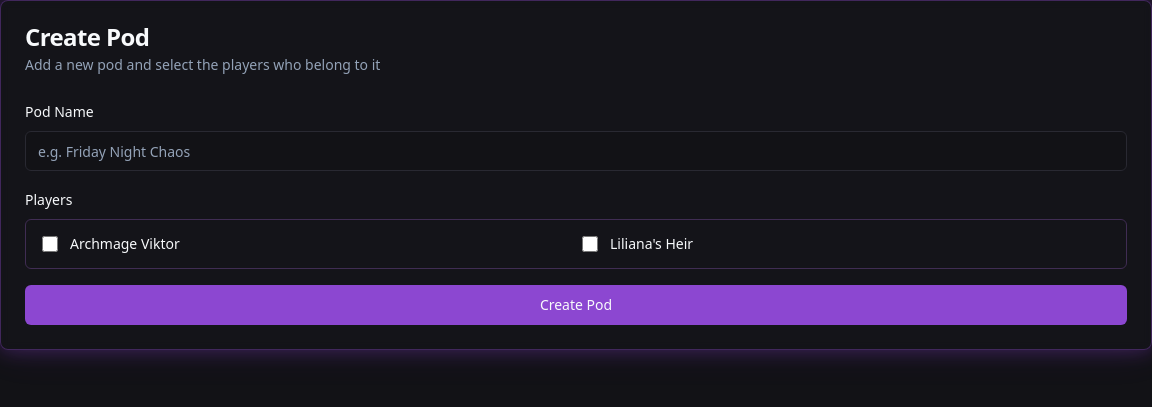
Test: PodManagementForm › requires players, creates the pod with selected memberships, and resets
Type "  Tuesday Commander  " into the field labelled "Pod Name" at (576, 151), box [25,131,1127,171]
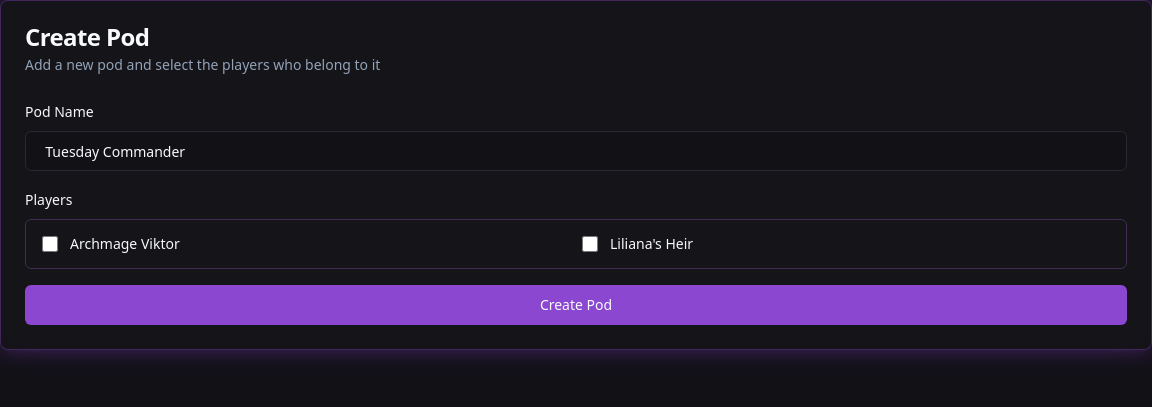
Click the button "Create Pod" at (576, 305), box [25,285,1127,325]
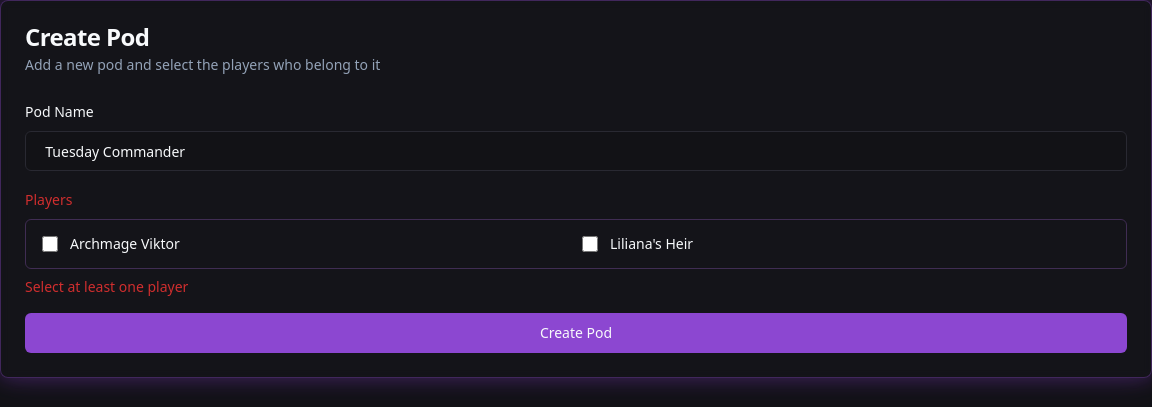
Now the text "Select at least one player" is shown, box [25,277,188,296]
Click the checkbox labelled "Archmage Viktor" at (50, 244), box [42,236,58,252]
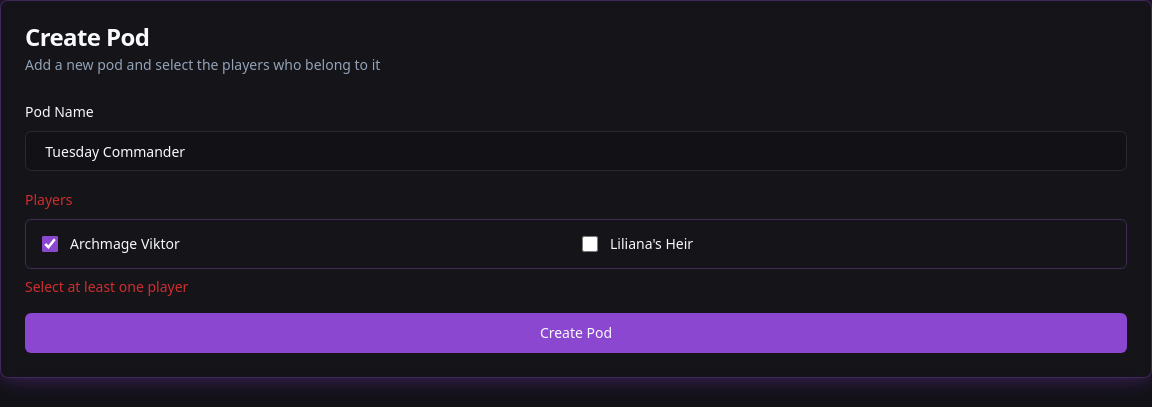
Click the checkbox labelled "Liliana's Heir" at (590, 244), box [582,236,598,252]
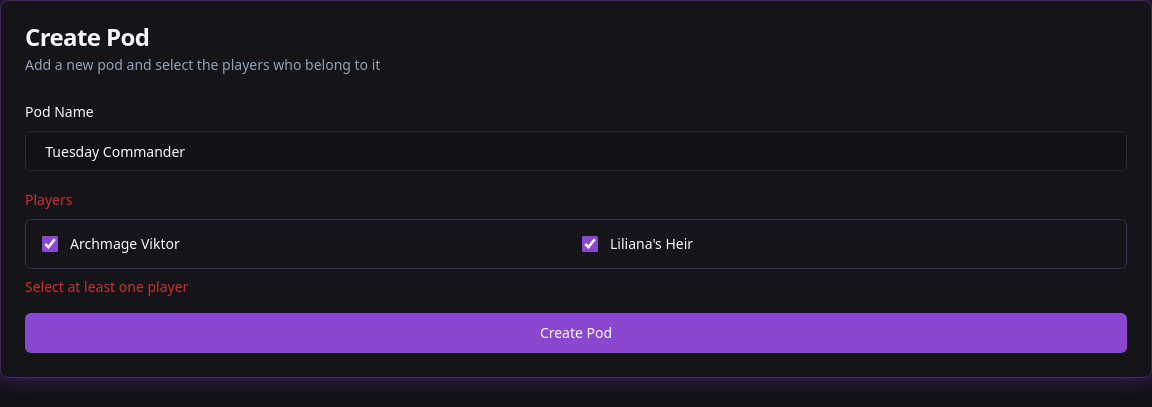
Click the button "Create Pod" at (576, 333), box [25,313,1127,353]
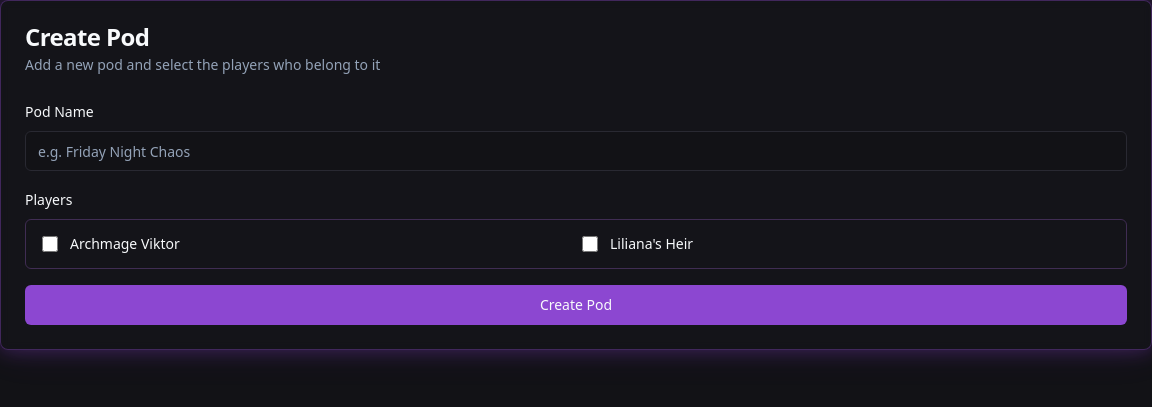
Now the checkbox labelled "Archmage Viktor" is not checked, box [42,236,58,252]
Now the checkbox labelled "Liliana's Heir" is not checked, box [582,236,598,252]
Now the field labelled "Pod Name" is empty, box [25,131,1127,171]
